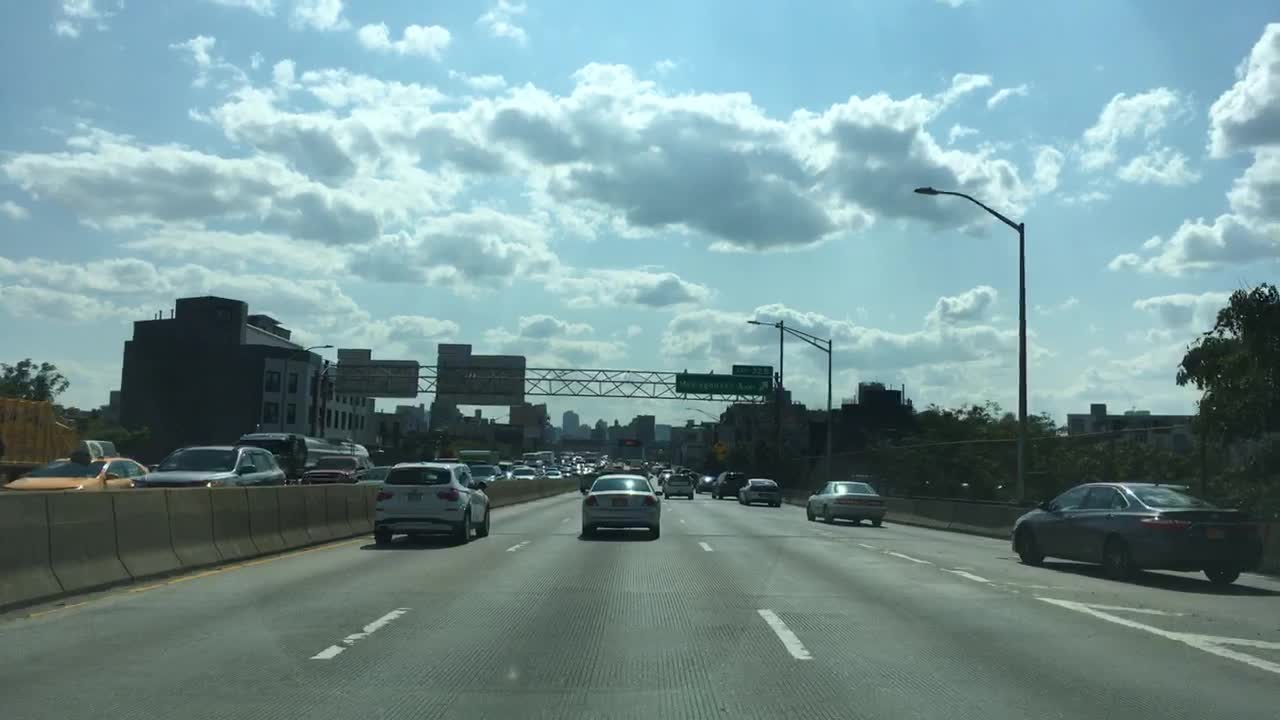bus: (238, 431, 371, 474)
car: (1008, 481, 1264, 586), (372, 461, 492, 547), (141, 444, 290, 489), (3, 452, 146, 495), (577, 469, 661, 539), (805, 477, 891, 528), (301, 450, 372, 484), (737, 474, 786, 505), (711, 469, 754, 500), (468, 463, 506, 486), (363, 461, 397, 482), (510, 465, 540, 481), (692, 474, 716, 494), (655, 468, 677, 482), (542, 466, 563, 479), (648, 463, 668, 473)
traffic sign: (437, 353, 526, 405), (334, 358, 417, 400), (674, 370, 774, 395), (731, 362, 774, 375), (335, 346, 372, 359), (437, 343, 472, 356), (714, 440, 728, 456)
truck: (3, 397, 82, 469)
